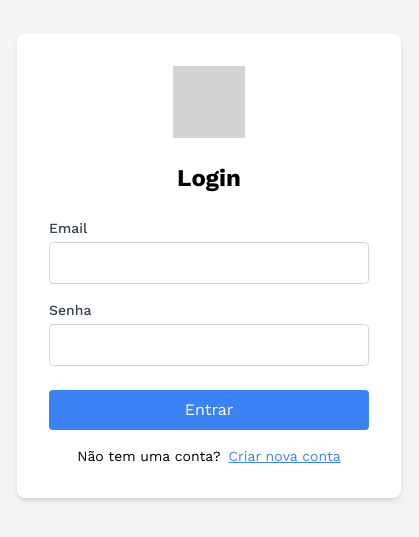
Test case: Login Component › Exibe erro ao falhar no registro
This screenshot has width=419, height=537.
Click the button "Criar nova conta" at (285, 456), box [228, 446, 341, 466]
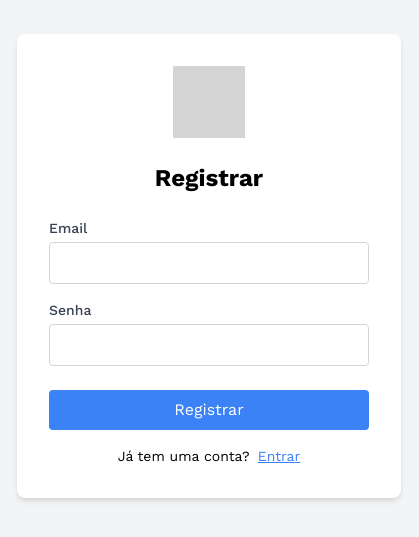
Type "teste@exemplo.com" into the field labelled "Email" at (209, 263), box [49, 242, 369, 284]
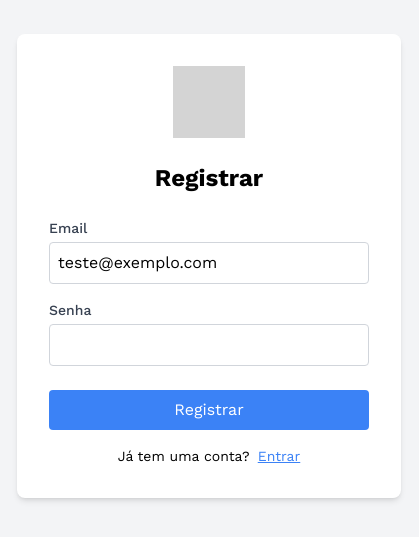
Type "senha_fraca" into the password field labelled "Senha" at (209, 345), box [49, 324, 369, 366]
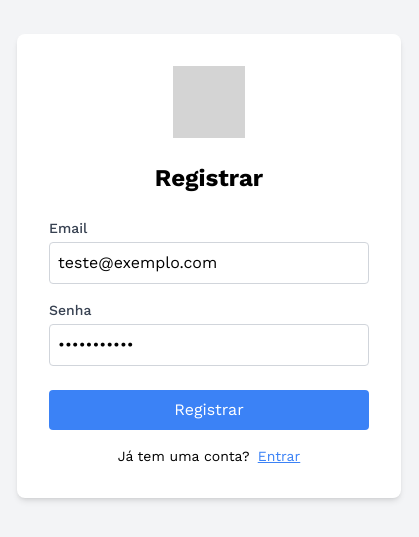
Click the button "Registrar" at (209, 410), box [49, 390, 369, 430]
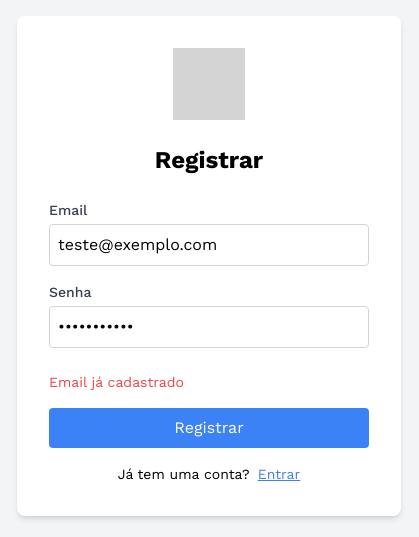
expect the text "Email já cadastrado" is shown: met, box [49, 374, 184, 390]
